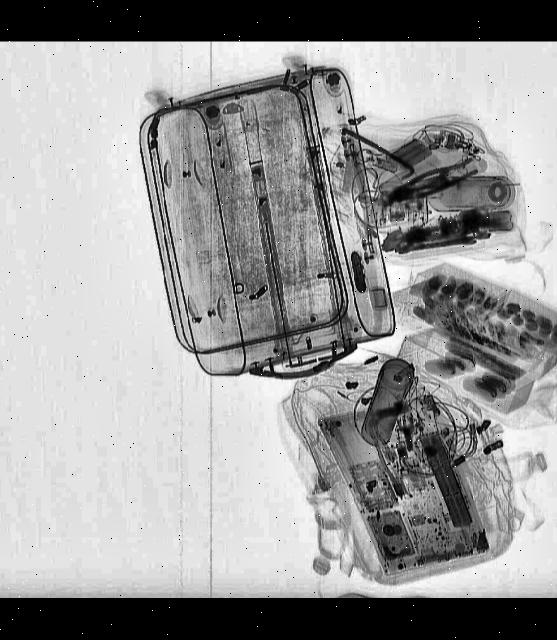Pliers: (380, 152, 480, 212)
